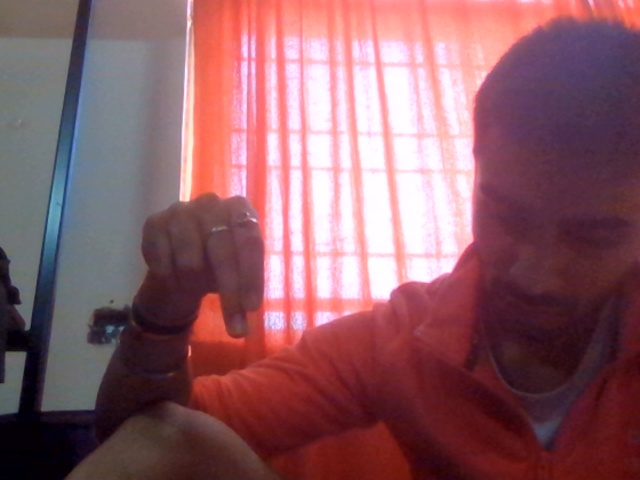Q: (128, 157, 298, 373)
